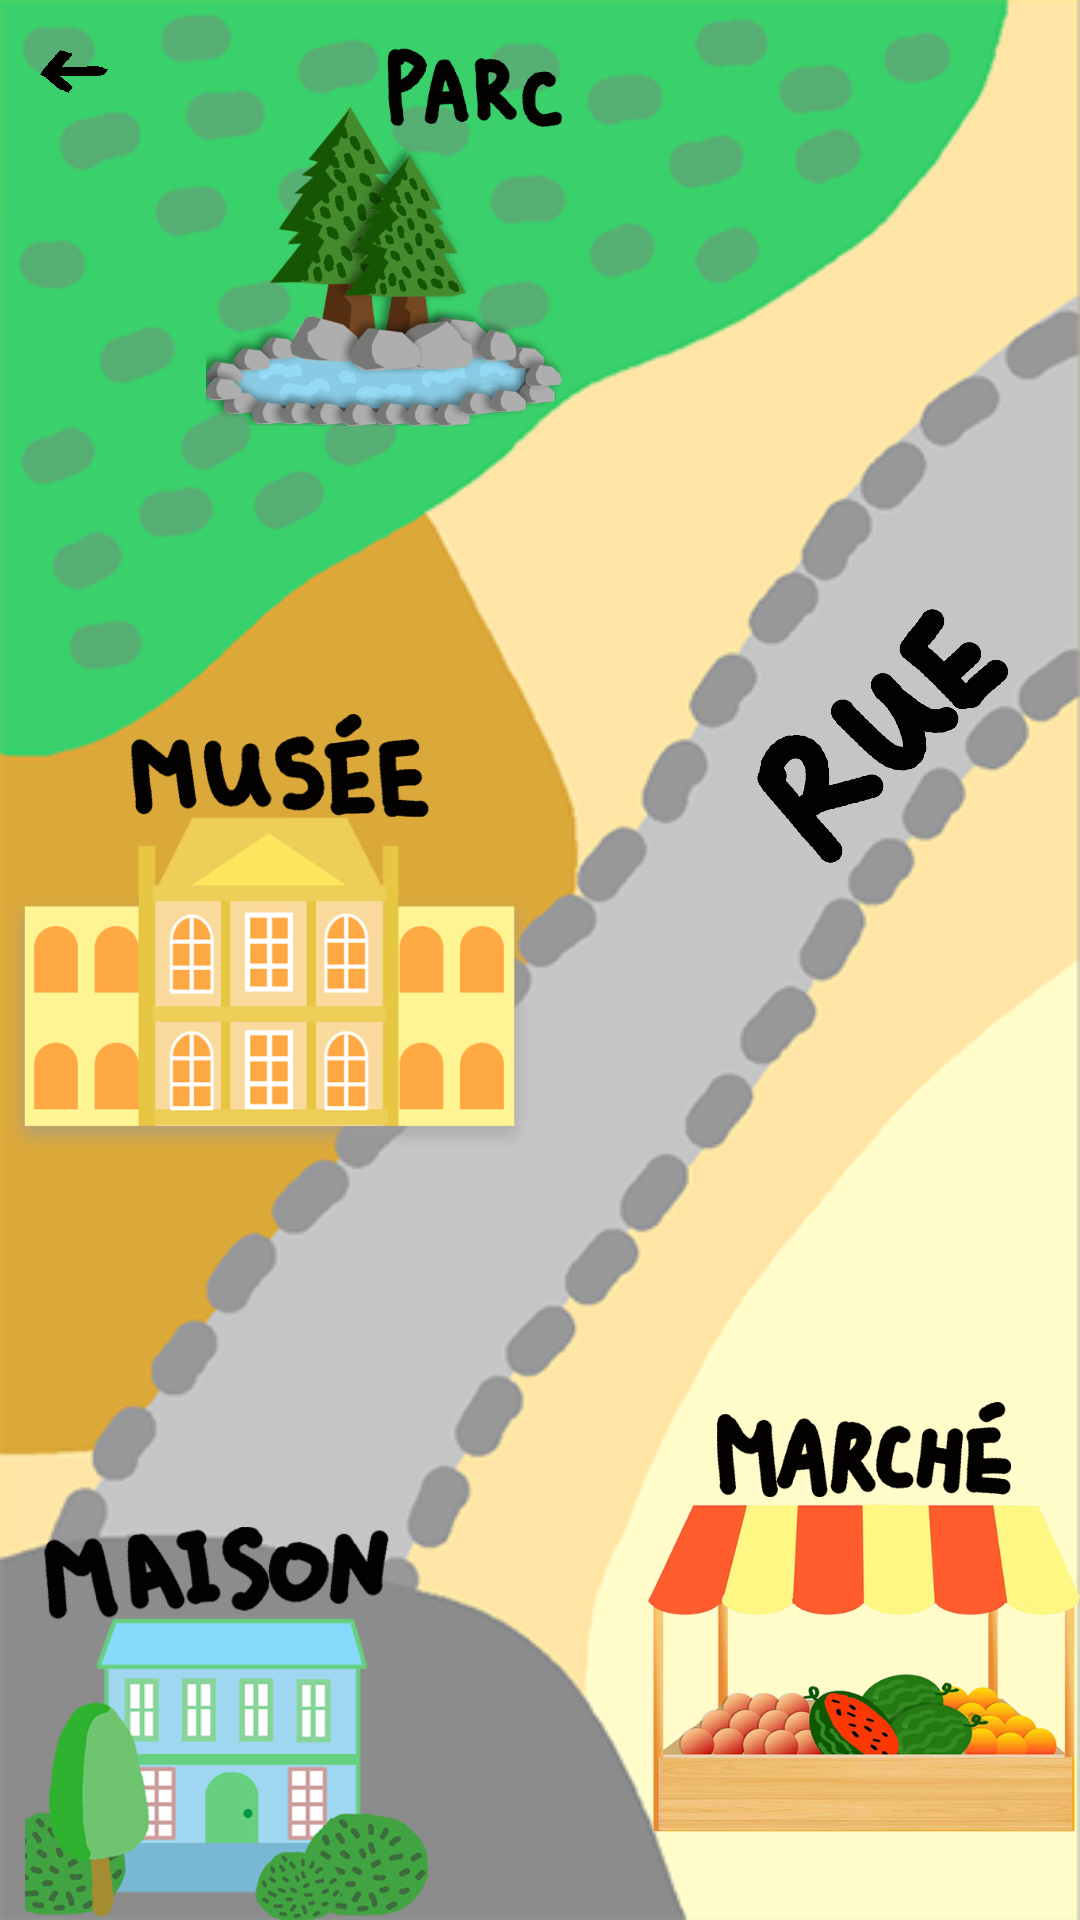

Screen size 1080px×1920px. Icon name, then its center in pixels as (x=x, y=y):
retour: (x=66, y=60)
